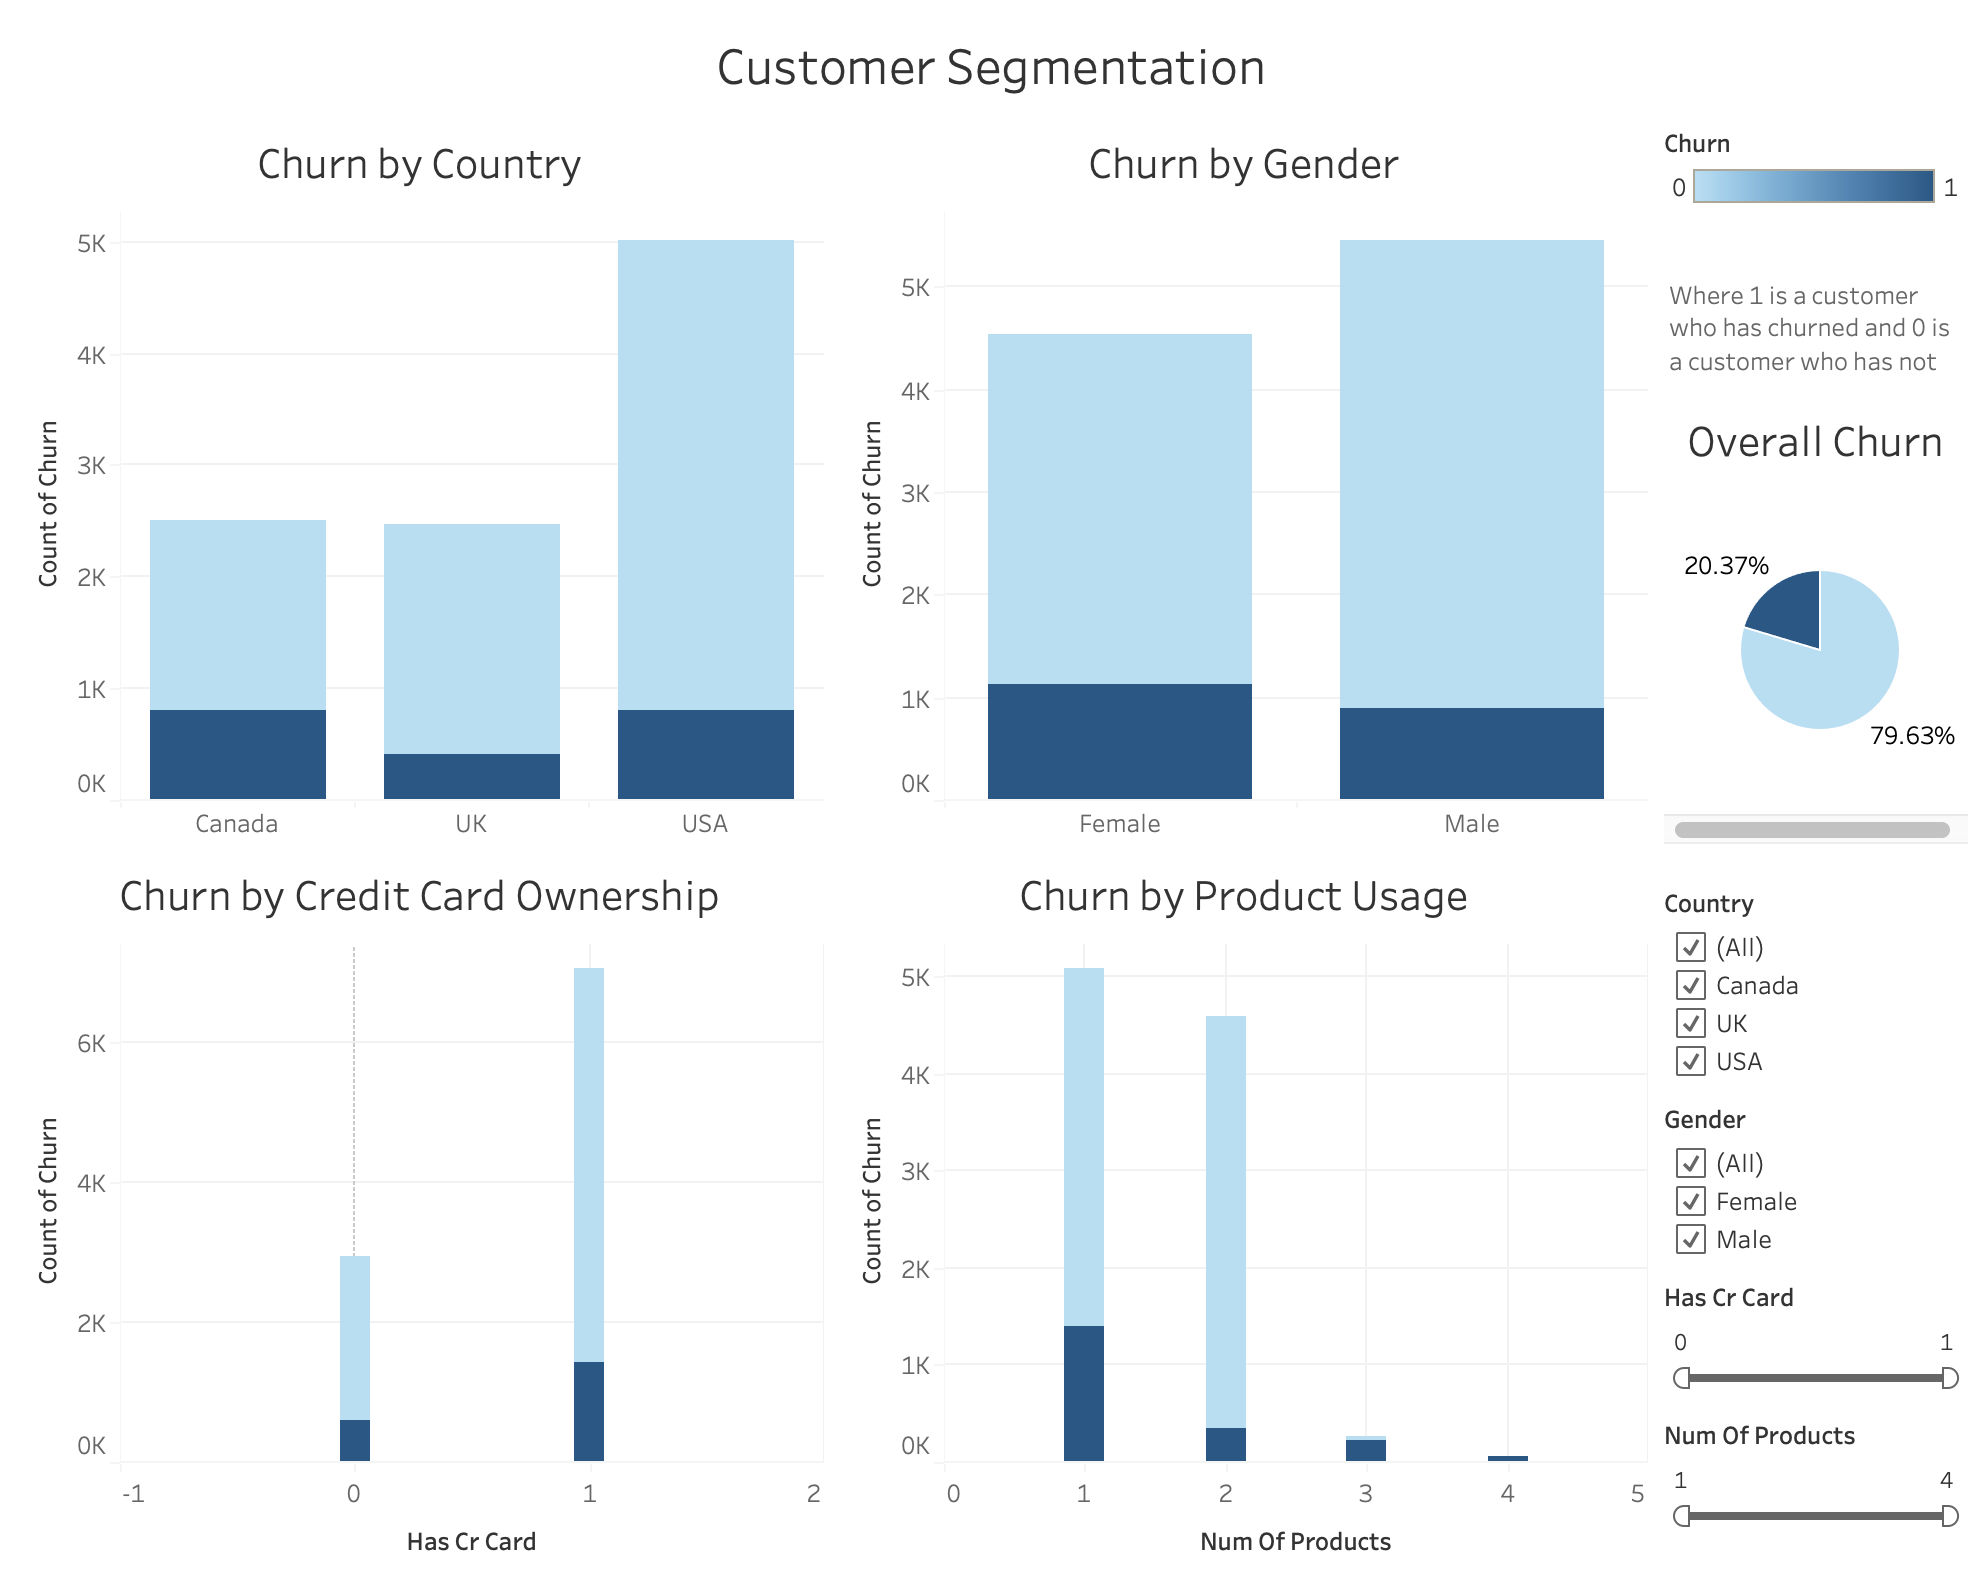

The page's visual inventory and layout, read from the dashboard file:
{"tool":"tableau","page":{"name":"Customer Segmentation","canvas":[1000,800],"ordinal":0},"visuals":[{"type":"title","box":[8,8,984,53]},{"type":"worksheet","title":"Churn by Country","mark":"Automatic","rows":["Exited"],"cols":["Calculation_246079504747929600"],"box":[8,61,412,365.5]},{"type":"worksheet","title":"Churn by Gender","mark":"Automatic","rows":["Exited"],"cols":["Gender"],"box":[420,61,412,365.5]},{"type":"legend","title":"Churn by Country","param":"[federated.00j5cr811ycxcs1b29grh0zpatqf].[none:Exited:qk]","box":[832,61,160,71]},{"type":"text","box":[832,132,160,68]},{"type":"worksheet","title":"Overall Churn","mark":"Pie","box":[832,200,160,241]},{"type":"worksheet","title":"Churn by Credit Card Ownership","mark":"Bar","rows":["Exited"],"cols":["HasCrCard"],"box":[8,426.5,412,365.5]},{"type":"worksheet","title":"Churn by Product Usage","mark":"Bar","rows":["Exited"],"cols":["NumOfProducts"],"box":[420,426.5,412,365.5]},{"type":"filter","title":"Churn by Country","param":"[federated.00j5cr811ycxcs1b29grh0zpatqf].[none:Calculation_246079504747929600:nk","box":[832,441,160,108]},{"type":"filter","title":"Churn by Gender","param":"[federated.00j5cr811ycxcs1b29grh0zpatqf].[none:Gender:nk]","box":[832,549,160,89]},{"type":"filter","title":"Churn by Credit Card Ownership","param":"[federated.00j5cr811ycxcs1b29grh0zpatqf].[none:HasCrCard:qk]","box":[832,638,160,69]},{"type":"filter","title":"Churn by Product Usage","param":"[federated.00j5cr811ycxcs1b29grh0zpatqf].[none:NumOfProducts:qk]","box":[832,707,160,69]}]}

Visuals, with their boxes in screenshot pixels (x1, y1, x2, y2), scaled from the page's 1000x800 canvas onto the 1988x1592 screenshot:
title: (left=16, top=16, right=1972, bottom=121)
"Churn by Country" worksheet: (left=16, top=121, right=835, bottom=849)
"Churn by Gender" worksheet: (left=835, top=121, right=1654, bottom=849)
"Churn by Country" legend: (left=1654, top=121, right=1972, bottom=263)
text: (left=1654, top=263, right=1972, bottom=398)
"Overall Churn" worksheet (Pie marks): (left=1654, top=398, right=1972, bottom=878)
"Churn by Credit Card Ownership" worksheet (Bar marks): (left=16, top=849, right=835, bottom=1576)
"Churn by Product Usage" worksheet (Bar marks): (left=835, top=849, right=1654, bottom=1576)
"Churn by Country" filter: (left=1654, top=878, right=1972, bottom=1093)
"Churn by Gender" filter: (left=1654, top=1093, right=1972, bottom=1270)
"Churn by Credit Card Ownership" filter: (left=1654, top=1270, right=1972, bottom=1407)
"Churn by Product Usage" filter: (left=1654, top=1407, right=1972, bottom=1544)
